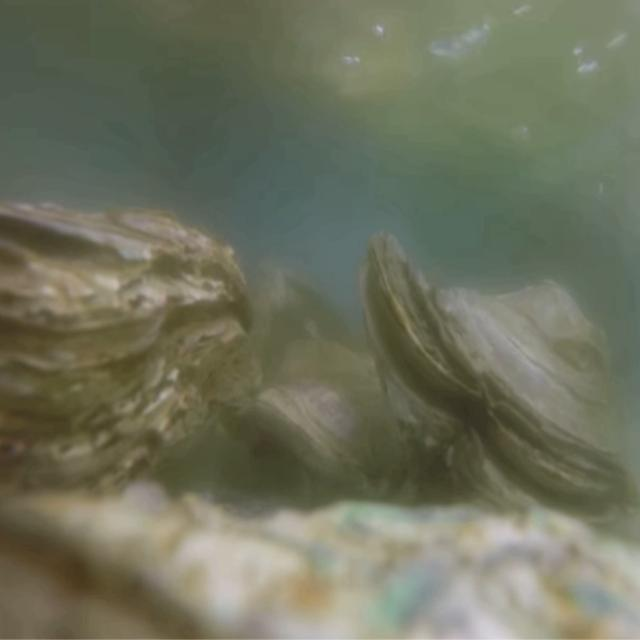Oyster-Closed: (0, 198, 265, 514)
Oyster-Indeterminate: (0, 481, 640, 640), (254, 334, 418, 503)
Oyster-Open: (356, 230, 640, 540)
